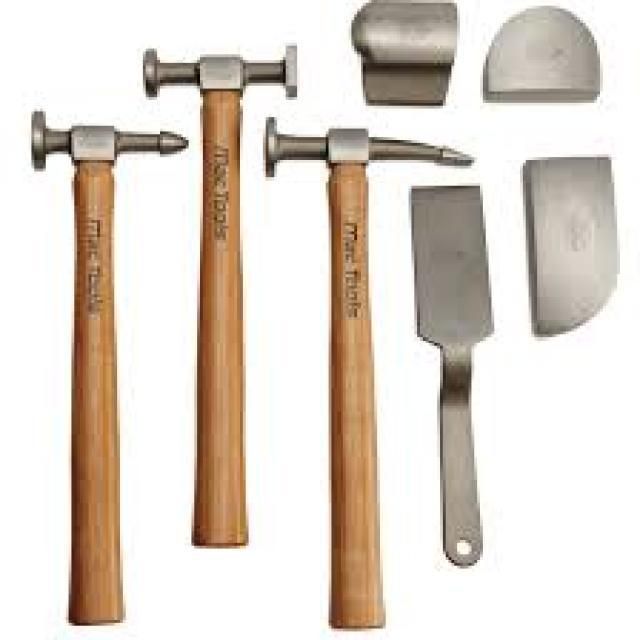Palu: (264, 108, 486, 638), (18, 82, 202, 630), (127, 29, 296, 542)
